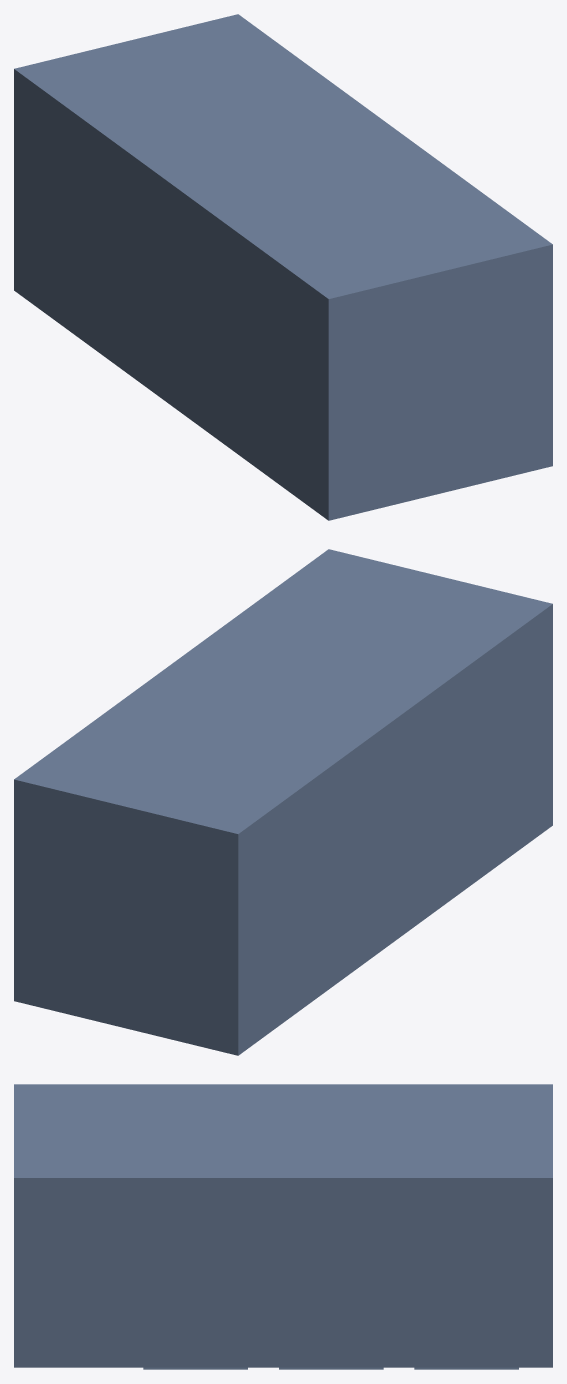
File: 17_file_cabinet_tall.glb
3 renders of one model, top to bottom at view 1: azimuth 30°, elevation 25°; view 2: azimuth 150°, elevation 25°; view 3: azimuth 270°, elevation 25°, orthographic. The views are drawn at different scales.
Parts seen in each view (by area): view 1: part_1; view 2: part_1; view 3: part_1.
Boxes of the visible parts, left/top/right/bottom form: part_1: left=14, top=14, right=552, bottom=520; part_1: left=14, top=549, right=552, bottom=1055; part_1: left=14, top=1084, right=552, bottom=1367.
Bounding box in the file's own units: 0.72 × 0.745 × 1.75.
